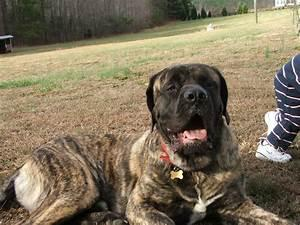dog: (0, 62, 295, 224)
